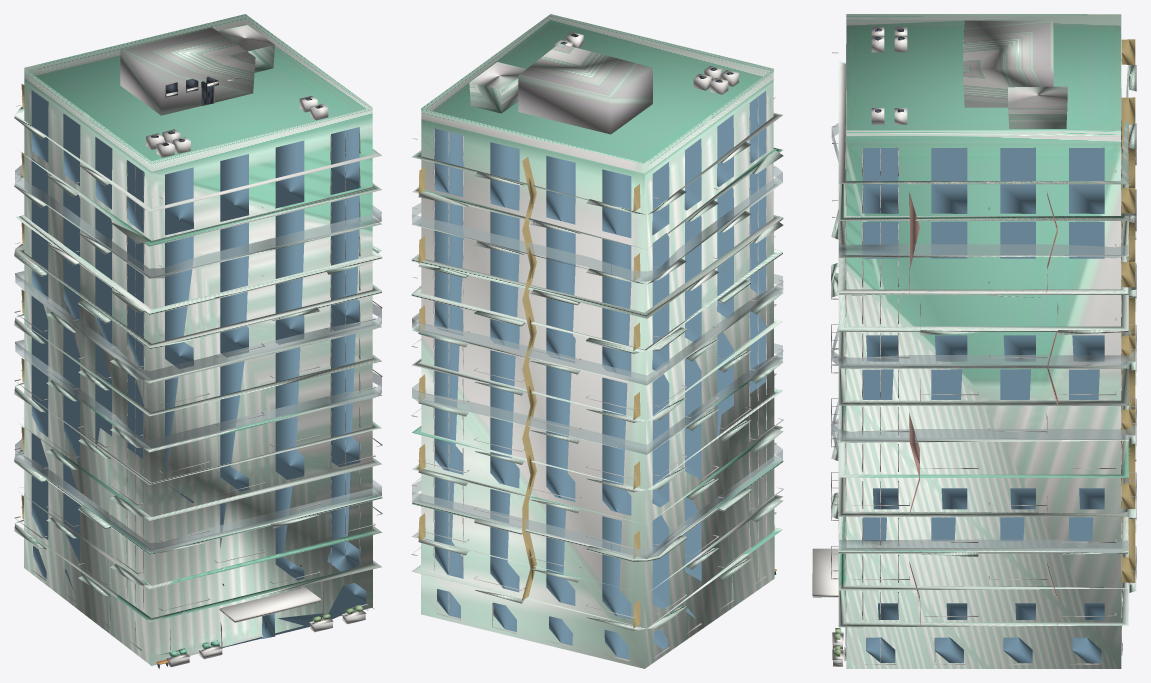
The model's file is high-rise-apartment.glb.
The picture shows the model from 3 angles, left to right: view 1: azimuth 30°, elevation 25°; view 2: azimuth 150°, elevation 25°; view 3: azimuth 270°, elevation 25°; orthographic projection. The views are drawn at different scales.
Visible parts, largest first — view 1: high-rise-apartment_body, high-rise-apartment_windows, high-rise-apartment_glass_rails, high-rise-apartment_details; view 2: high-rise-apartment_body, high-rise-apartment_windows, high-rise-apartment_glass_rails, high-rise-apartment_details, high-rise-apartment_handrails; view 3: high-rise-apartment_body, high-rise-apartment_windows, high-rise-apartment_glass_rails, high-rise-apartment_details, high-rise-apartment_handrails.
Part boxes in pixels (x1,y1,x2,y2): high-rise-apartment_body: [14, 14, 382, 665]; high-rise-apartment_windows: [31, 90, 366, 647]; high-rise-apartment_glass_rails: [15, 165, 381, 552]; high-rise-apartment_details: [14, 76, 382, 668]; high-rise-apartment_body: [411, 14, 783, 668]; high-rise-apartment_windows: [434, 91, 766, 659]; high-rise-apartment_glass_rails: [412, 166, 783, 558]; high-rise-apartment_details: [411, 32, 783, 661]; high-rise-apartment_handrails: [418, 157, 640, 628]; high-rise-apartment_body: [831, 14, 1136, 668]; high-rise-apartment_windows: [846, 44, 1121, 662]; high-rise-apartment_glass_rails: [831, 121, 1135, 553]; high-rise-apartment_details: [812, 27, 1136, 666]; high-rise-apartment_handrails: [1121, 39, 1135, 582].
Bounding box in the file's own units: 24 × 49.52 × 25.45.
13 materials, 1 textured.
